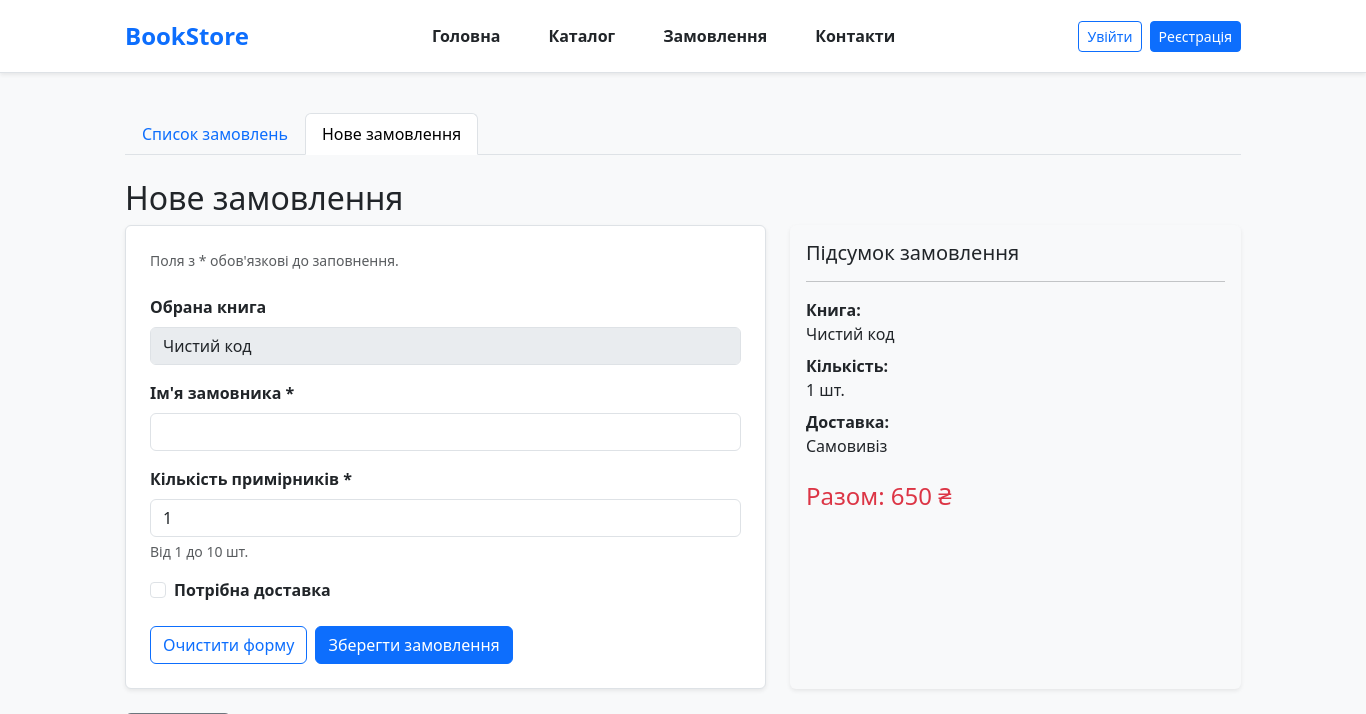
Test: Інтеграційні та компонентні тести BookStore › показує помилки валідації при поданні некоректної форми і не викликає сервіс створення
Click the button "Зберегти замовлення" at coordinates (414, 645), box [316,626,513,664]
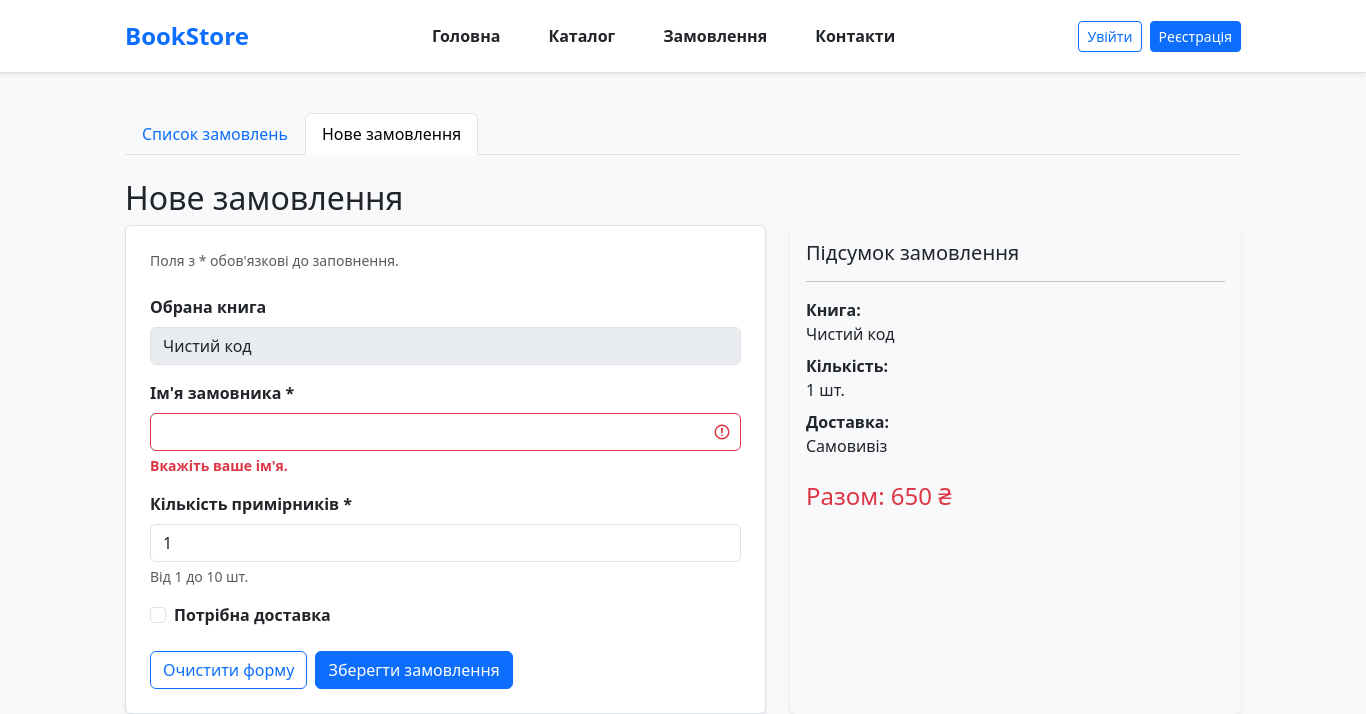
Expected: the text "Вкажіть ваше ім'я." is shown, [150,456,288,475]
